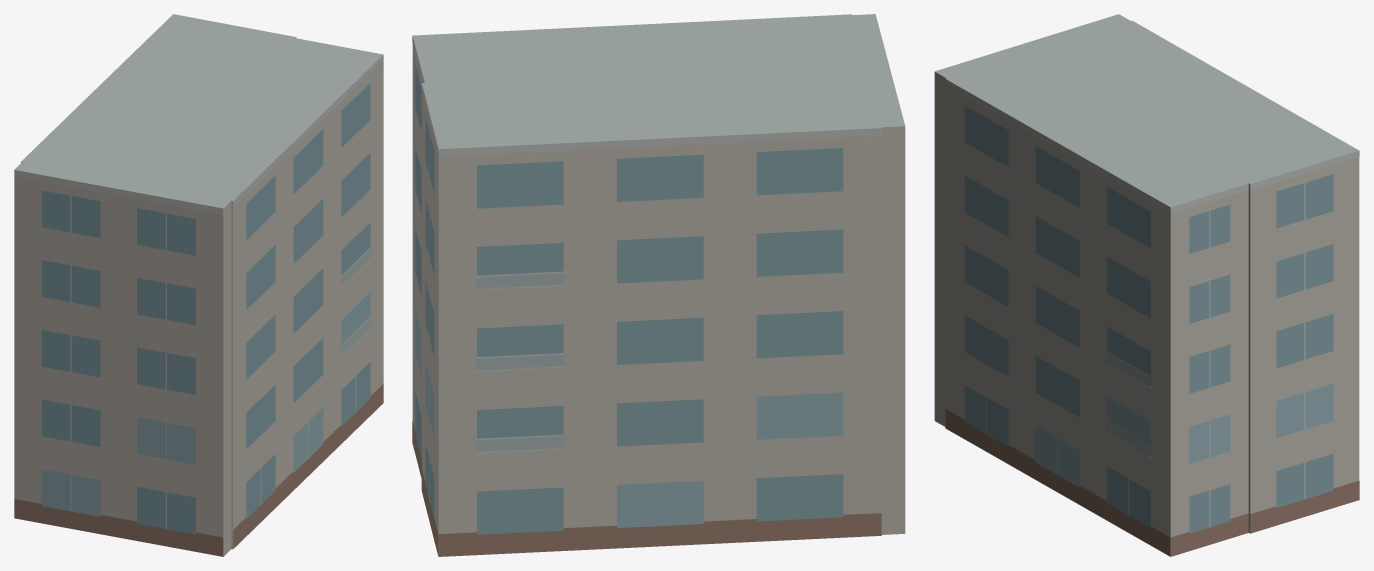
File: survey-upis-32995621.glb
3 renders of one model, left to right at view 1: azimuth 30°, elevation 25°; view 2: azimuth 150°, elevation 25°; view 3: azimuth 270°, elevation 25°, orthographic. The views are drawn at different scales.
Visible parts, largest first — view 1: survey-upis-32995621.tmp; view 2: survey-upis-32995621.tmp; view 3: survey-upis-32995621.tmp.
Boxes of the visible parts, bbox=[...] form: survey-upis-32995621.tmp: bbox=[14, 14, 383, 556]; survey-upis-32995621.tmp: bbox=[412, 14, 905, 556]; survey-upis-32995621.tmp: bbox=[934, 14, 1359, 556].
Bounding box in the file's own units: 15.74 × 13.25 × 14.61.
